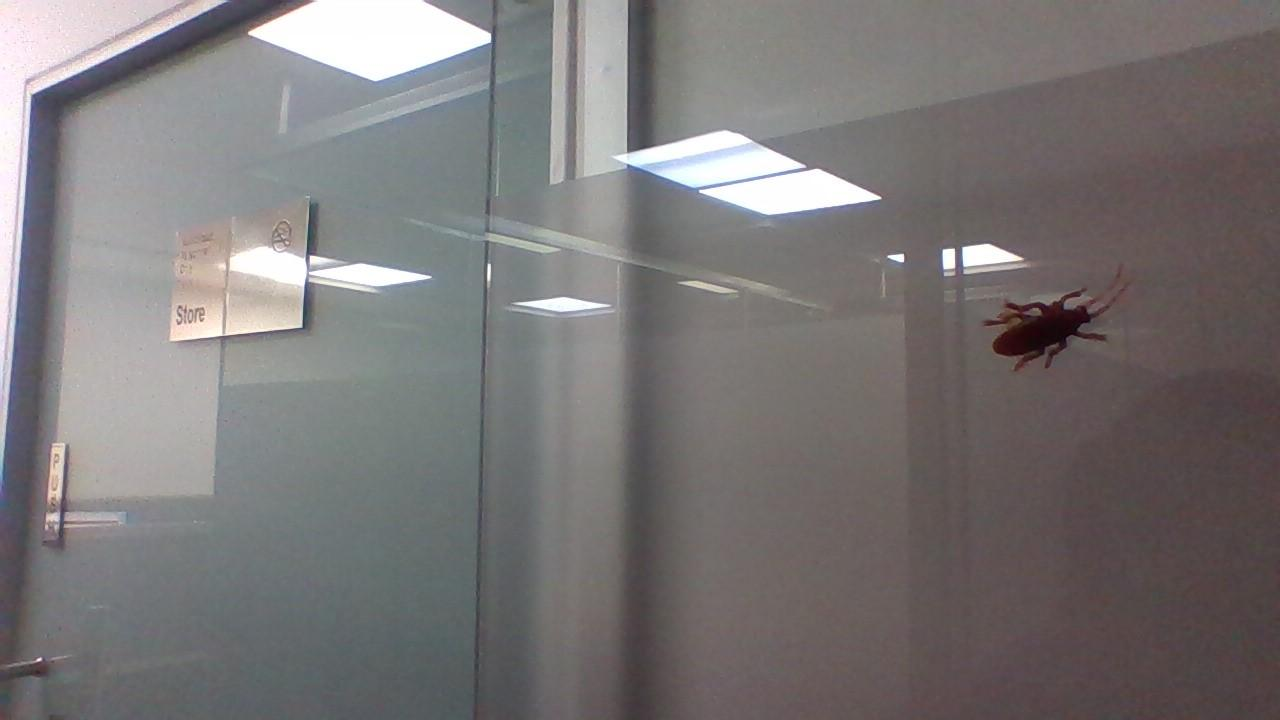cockroach: (963, 260, 1125, 388)
